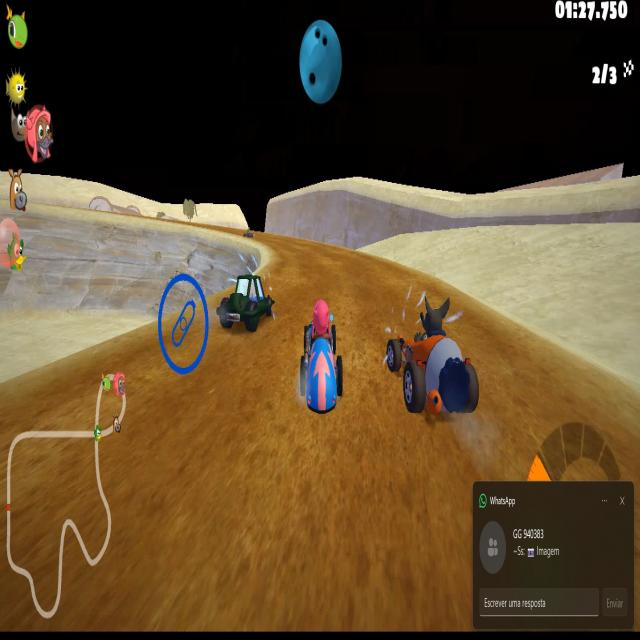enemy_kart: (381, 293, 481, 429), (211, 270, 275, 326)
off_track: (370, 184, 635, 254)
player_kart: (295, 296, 346, 418)
track: (250, 234, 362, 274)
